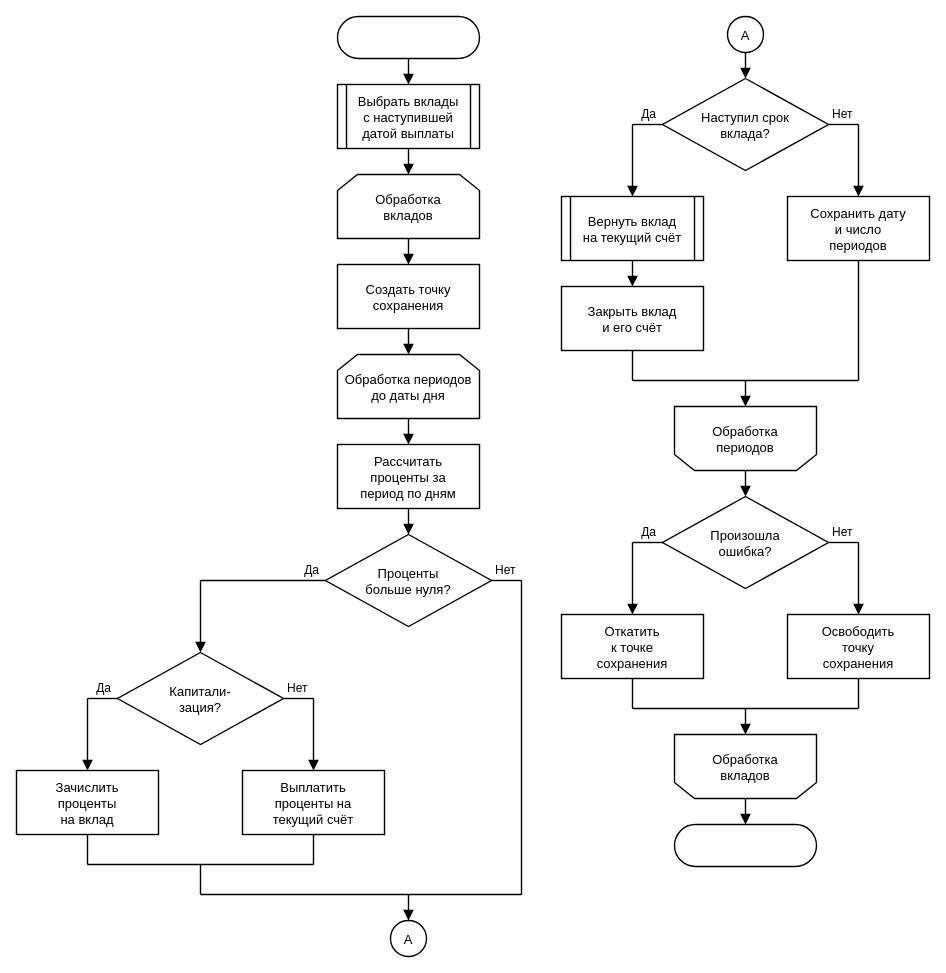
The diagram is 946 pixels wide and 973 high, and some of its shapes have lost their labels. Each missing label, with the box of its shape:
Конец: (673, 823, 817, 867)
Начало: (336, 15, 480, 59)
